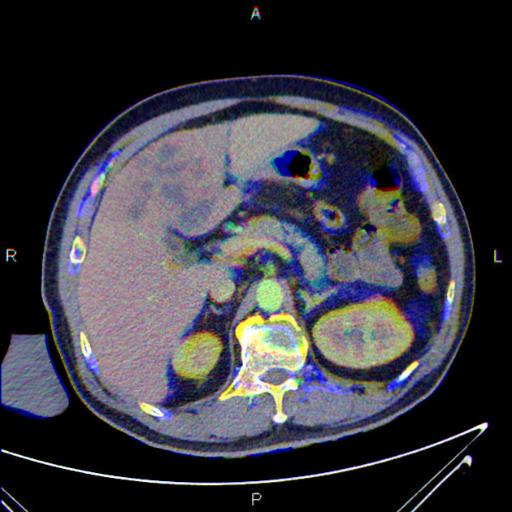Abscess: (122, 134, 213, 235)
